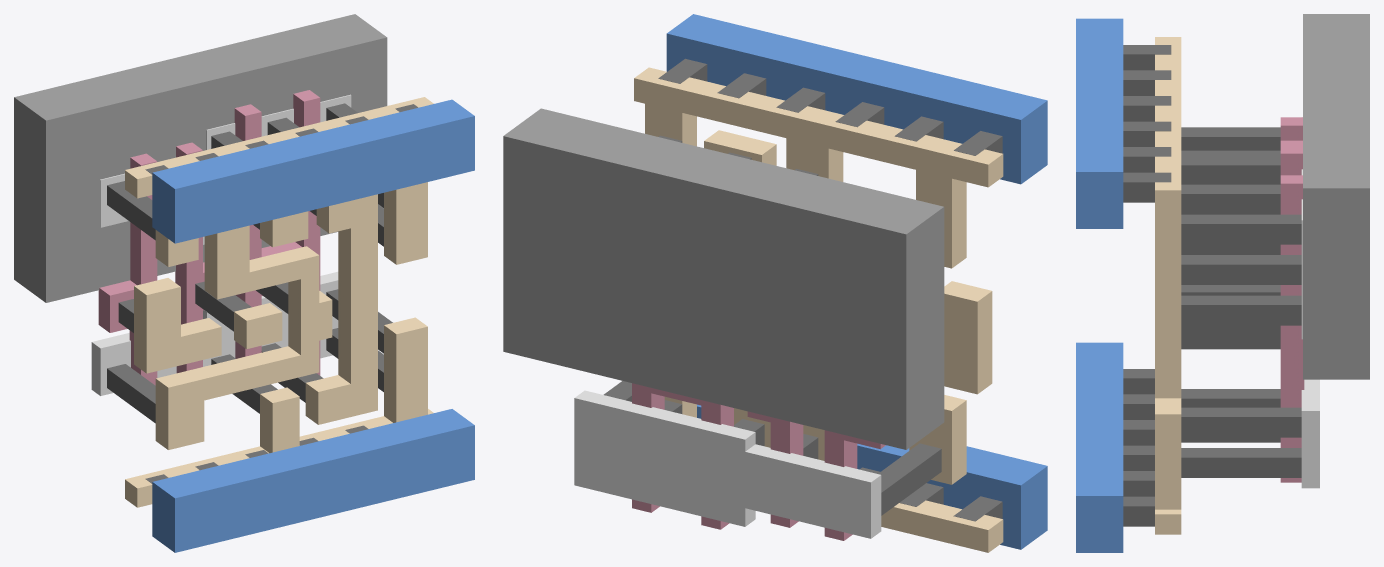
File: sky130_fd_sc_hd__and2_2.gds.gltf
3 views of the same model, side by side, from view 1: azimuth 30°, elevation 25°; view 2: azimuth 150°, elevation 25°; view 3: azimuth 270°, elevation 25° (orthographic). The views are drawn at different scales.
Visible parts, largest first — view 1: sky130_fd_sc_hd__and2_2_li1, sky130_fd_sc_hd__and2_2_met1, sky130_fd_sc_hd__and2_2_nwell, sky130_fd_sc_hd__and2_2_licon, sky130_fd_sc_hd__and2_2_poly, sky130_fd_sc_hd__and2_2_diff, sky130_fd_sc_hd__and2_2_mcon; view 2: sky130_fd_sc_hd__and2_2_nwell, sky130_fd_sc_hd__and2_2_li1, sky130_fd_sc_hd__and2_2_met1, sky130_fd_sc_hd__and2_2_diff, sky130_fd_sc_hd__and2_2_mcon, sky130_fd_sc_hd__and2_2_poly, sky130_fd_sc_hd__and2_2_licon; view 3: sky130_fd_sc_hd__and2_2_licon, sky130_fd_sc_hd__and2_2_nwell, sky130_fd_sc_hd__and2_2_met1, sky130_fd_sc_hd__and2_2_li1, sky130_fd_sc_hd__and2_2_mcon, sky130_fd_sc_hd__and2_2_poly, sky130_fd_sc_hd__and2_2_diff.
Part boxes in pixels (<box>): sky130_fd_sc_hd__and2_2_li1: <box>125,97,433,507</box>; sky130_fd_sc_hd__and2_2_met1: <box>152,99,474,552</box>; sky130_fd_sc_hd__and2_2_nwell: <box>14,14,387,302</box>; sky130_fd_sc_hd__and2_2_licon: <box>107,103,392,423</box>; sky130_fd_sc_hd__and2_2_poly: <box>98,90,320,385</box>; sky130_fd_sc_hd__and2_2_diff: <box>91,94,351,395</box>; sky130_fd_sc_hd__and2_2_mcon: <box>145,104,417,483</box>; sky130_fd_sc_hd__and2_2_nwell: <box>503,108,944,449</box>; sky130_fd_sc_hd__and2_2_li1: <box>634,67,1003,552</box>; sky130_fd_sc_hd__and2_2_met1: <box>666,14,1047,549</box>; sky130_fd_sc_hd__and2_2_diff: <box>574,390,881,538</box>; sky130_fd_sc_hd__and2_2_mcon: <box>658,58,1002,521</box>; sky130_fd_sc_hd__and2_2_poly: <box>632,383,885,540</box>; sky130_fd_sc_hd__and2_2_licon: <box>603,135,941,515</box>; sky130_fd_sc_hd__and2_2_licon: <box>1181,127,1301,477</box>; sky130_fd_sc_hd__and2_2_nwell: <box>1303,14,1369,379</box>; sky130_fd_sc_hd__and2_2_met1: <box>1076,18,1123,552</box>; sky130_fd_sc_hd__and2_2_li1: <box>1155,37,1181,534</box>; sky130_fd_sc_hd__and2_2_mcon: <box>1123,45,1171,526</box>; sky130_fd_sc_hd__and2_2_poly: <box>1280,117,1304,482</box>; sky130_fd_sc_hd__and2_2_diff: <box>1301,117,1319,488</box>.
Bounding box in the file's own units: 3.14 × 3.2 × 2.24.
